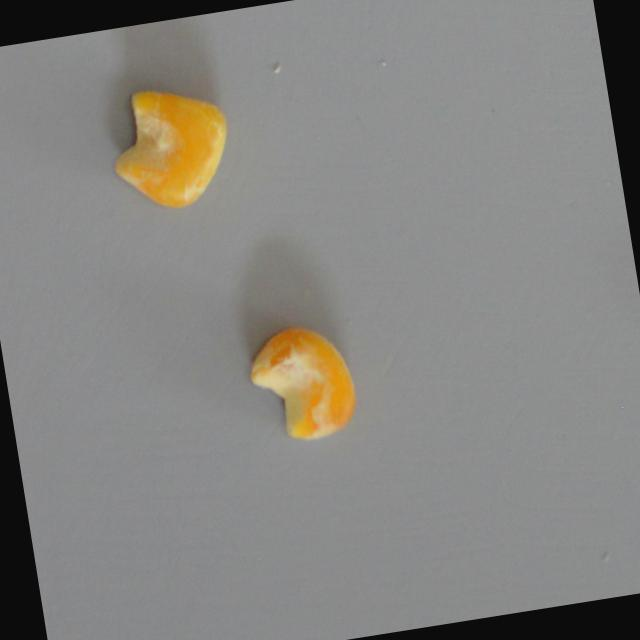pelicula: (103, 78, 240, 215), (243, 318, 362, 448)
